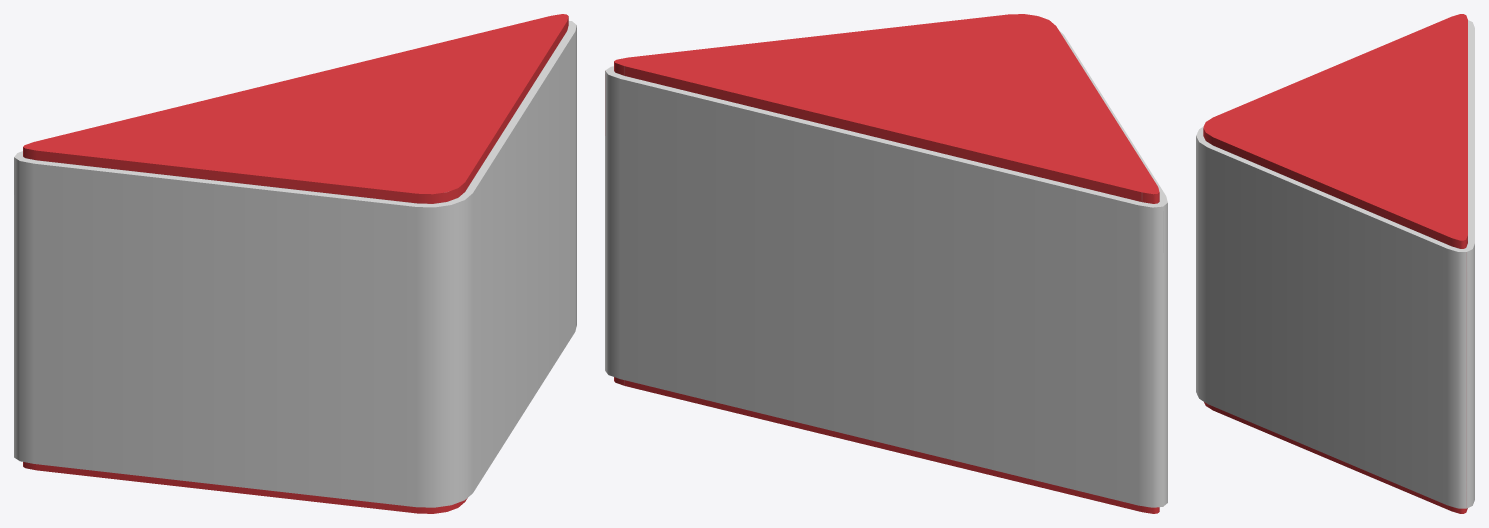
Rendered from BumperTriangle.fbx.
3 renders of one model, left to right at view 1: azimuth 30°, elevation 25°; view 2: azimuth 150°, elevation 25°; view 3: azimuth 270°, elevation 25°, orthographic. The views are drawn at different scales.
Visible parts, largest first — view 1: BumperTriangle; view 2: BumperTriangle; view 3: BumperTriangle.
Part boxes in pixels (left/top/right/bottom): BumperTriangle: left=14, top=14, right=576, bottom=513; BumperTriangle: left=605, top=14, right=1167, bottom=513; BumperTriangle: left=1196, top=14, right=1474, bottom=513.
Bounding box in the file's own units: 515 × 282 × 261.
